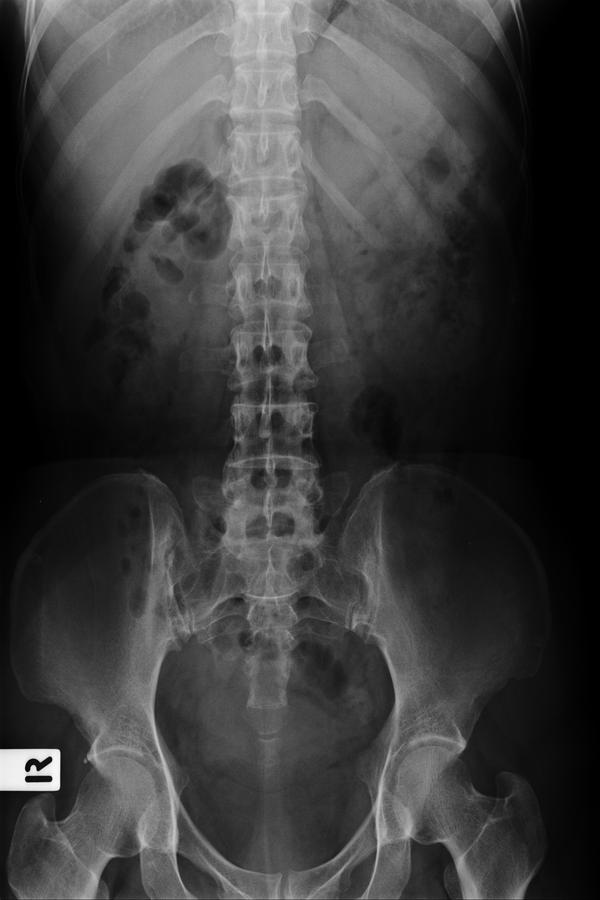not lumbar scoliosis: (212, 212, 333, 607)
